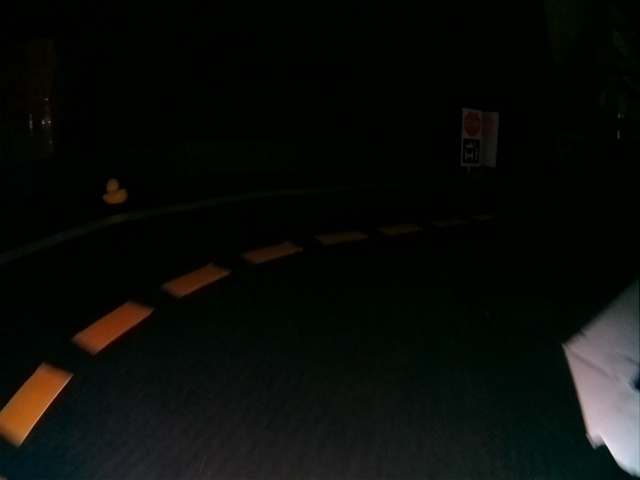Duckie: (103, 182, 128, 205)
QR code: (464, 139, 481, 165)
Stop sign: (465, 108, 484, 136)
